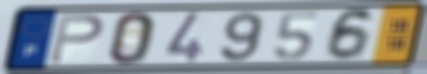0: (106, 11, 157, 66)
4: (163, 10, 205, 65)
5: (271, 10, 321, 62)
6: (321, 6, 379, 64)
9: (217, 11, 267, 63)
P: (47, 13, 106, 65)
